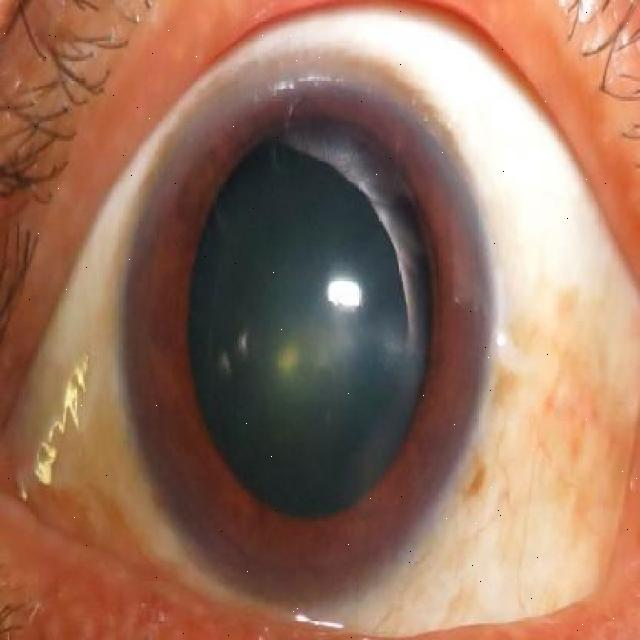Cataract: (114, 50, 509, 604)
